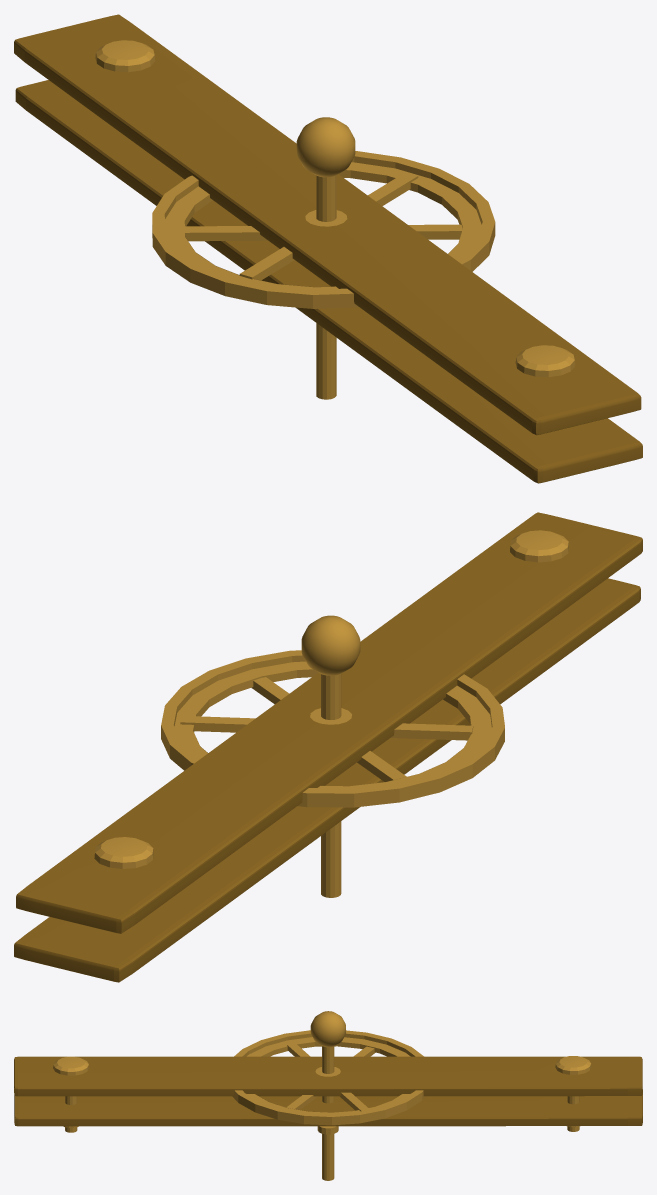
File: zizhuan2.fbx
The picture shows the model from 3 angles, top to bottom: view 1: azimuth 30°, elevation 25°; view 2: azimuth 150°, elevation 25°; view 3: azimuth 270°, elevation 25°; orthographic projection. The views are drawn at different scales.
Visible parts, largest first — view 1: 立方体.063; view 2: 立方体.063; view 3: 立方体.063.
Boxes of the visible parts, x1,y1,x2,y2 form: 立方体.063: (14,14,642,483); 立方体.063: (14,512,642,982); 立方体.063: (14,1011,642,1180).
Bounding box in the file's own units: 100 × 88.57 × 305.
